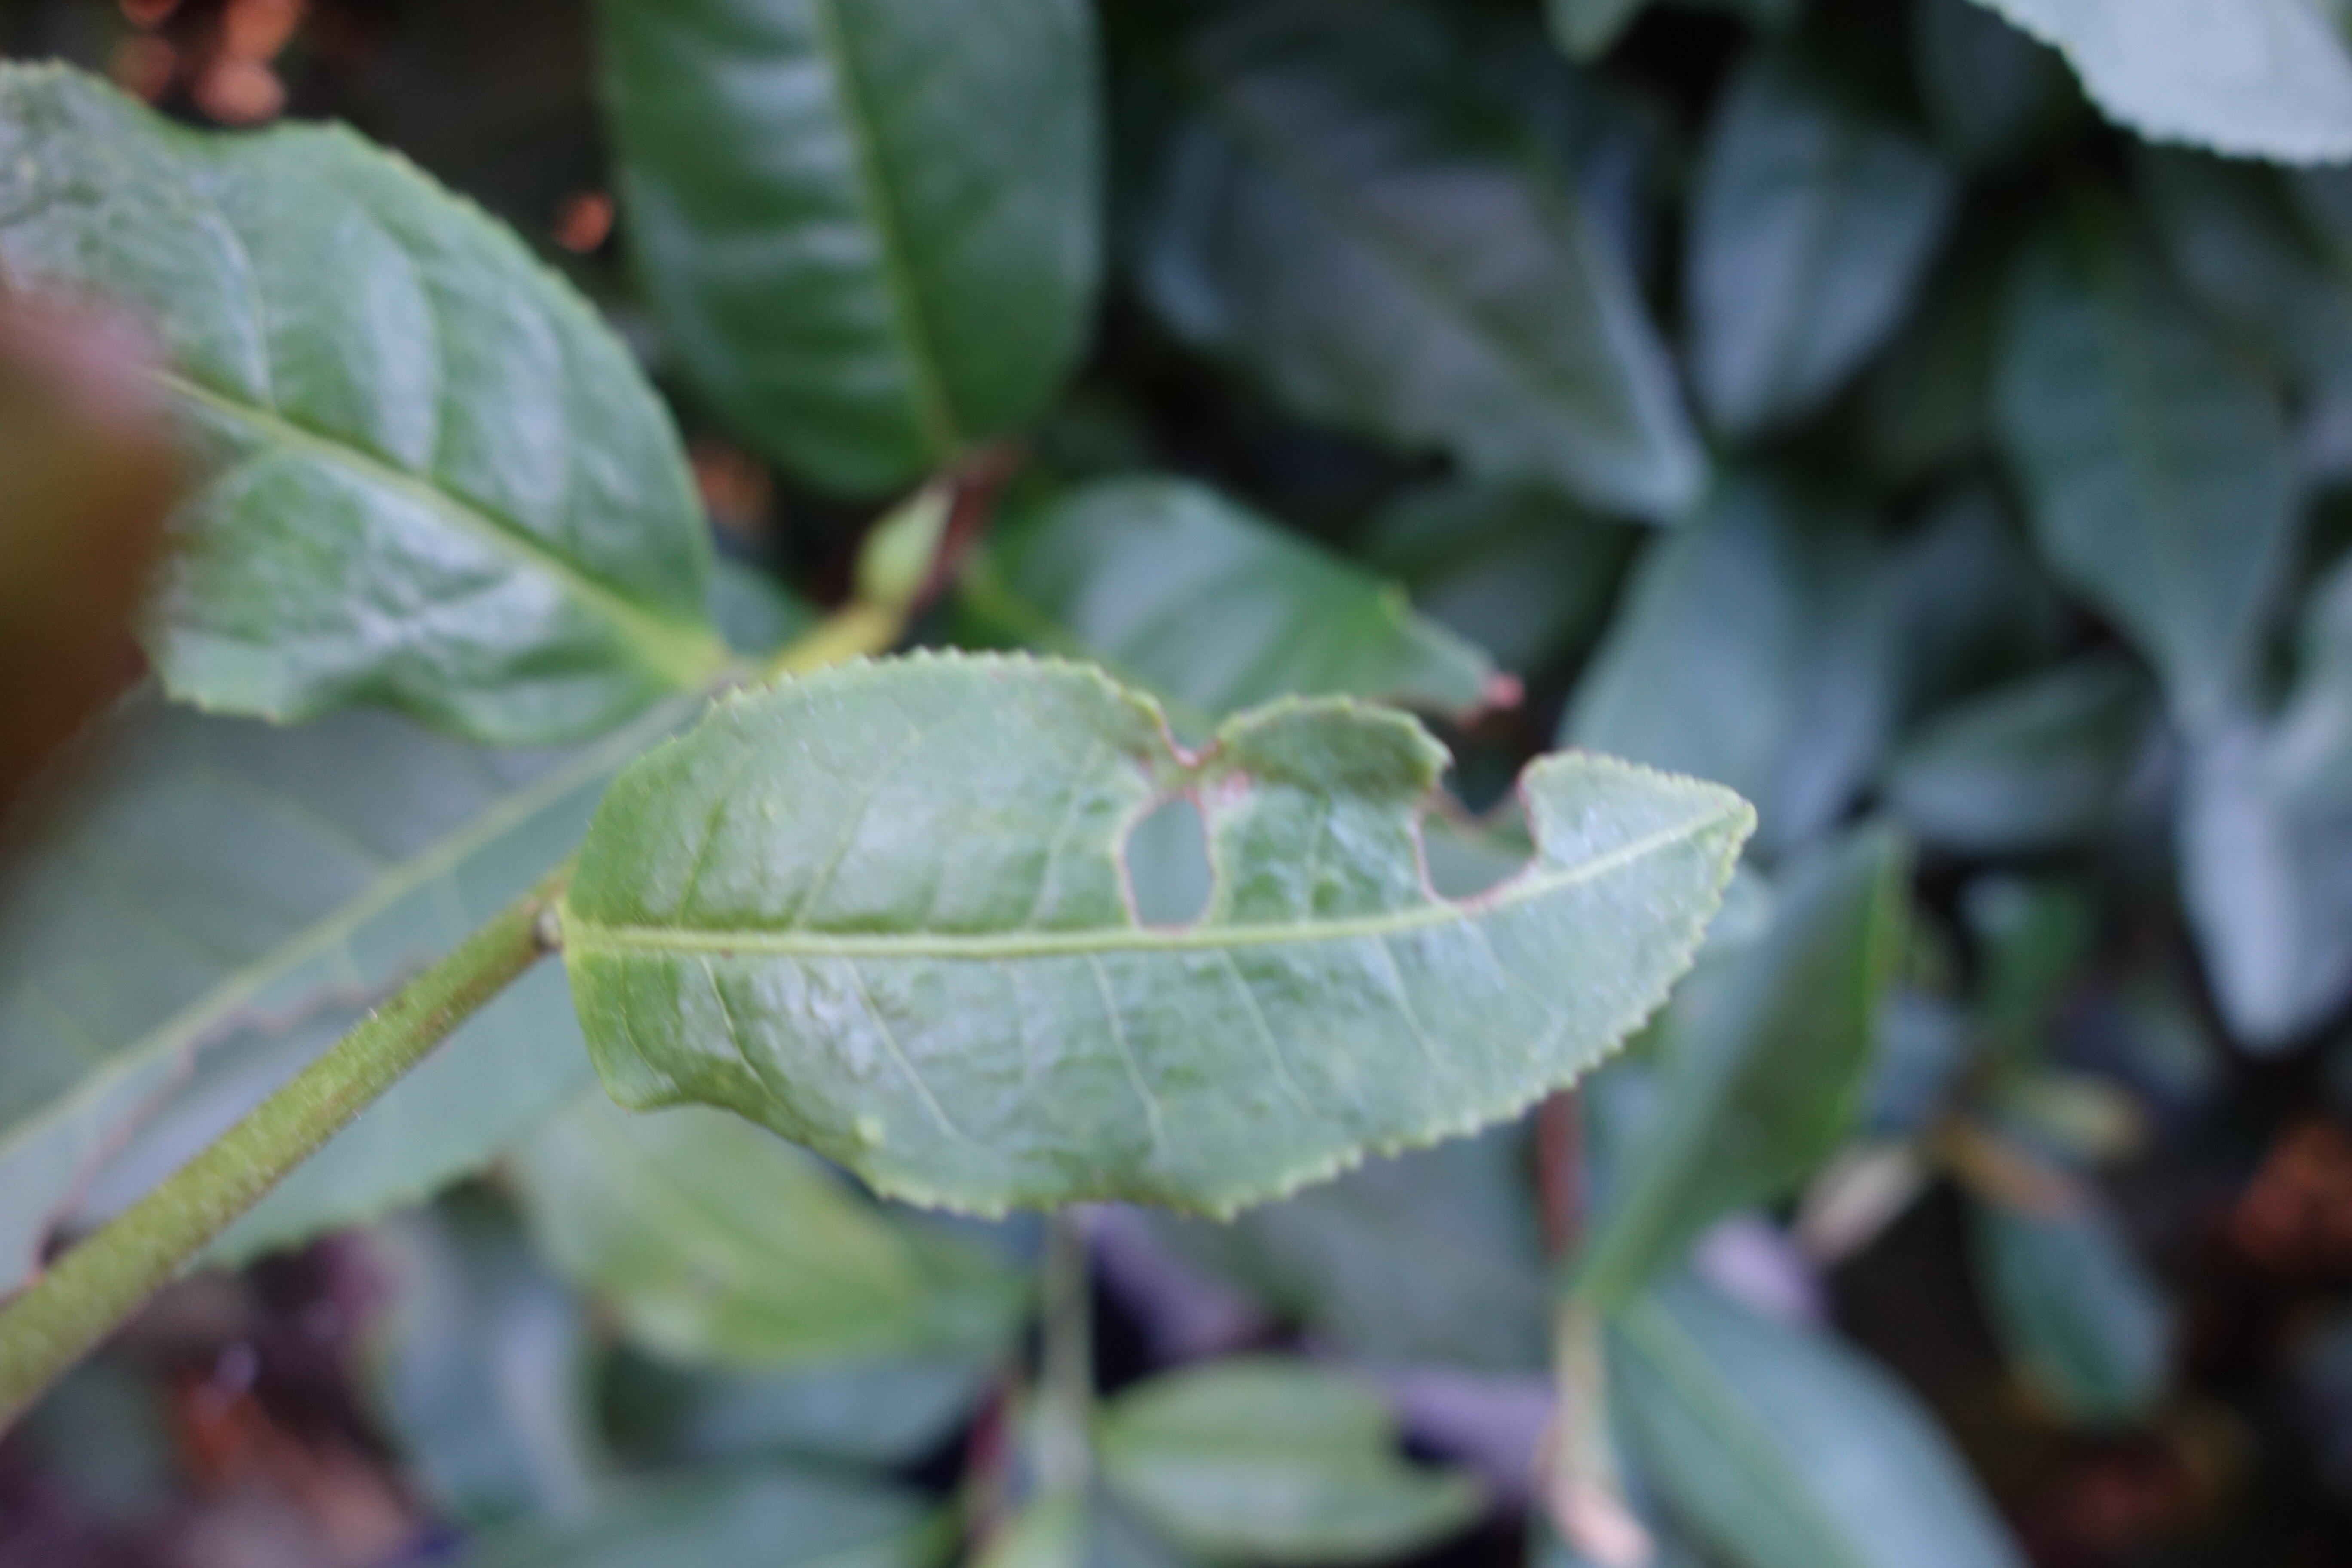chihuo_high: (563, 653, 1767, 1232)
